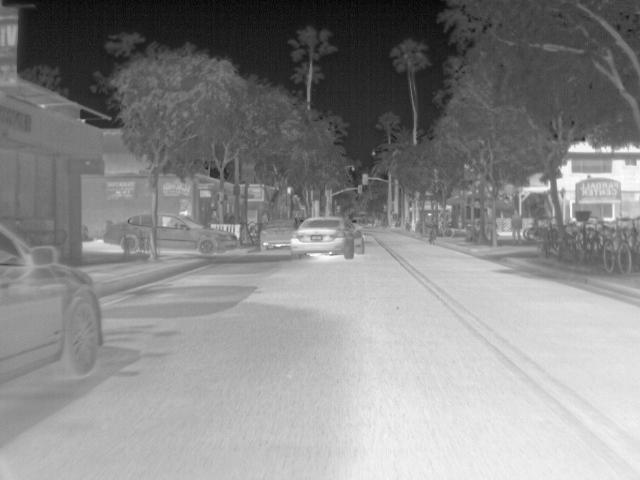car: (1, 223, 103, 385), (157, 211, 240, 256), (289, 214, 366, 260), (102, 212, 152, 253), (259, 217, 304, 252)
person: (511, 208, 523, 246), (425, 212, 437, 230), (209, 208, 221, 223), (182, 208, 190, 220)
